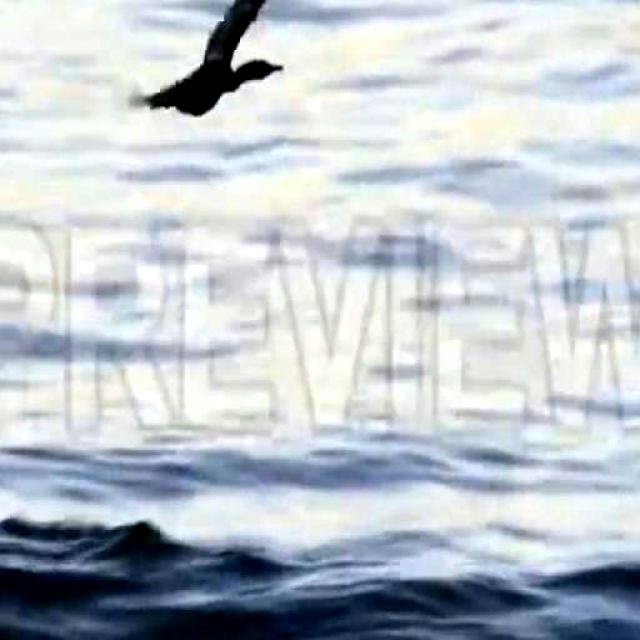airplane: (130, 0, 285, 128)
